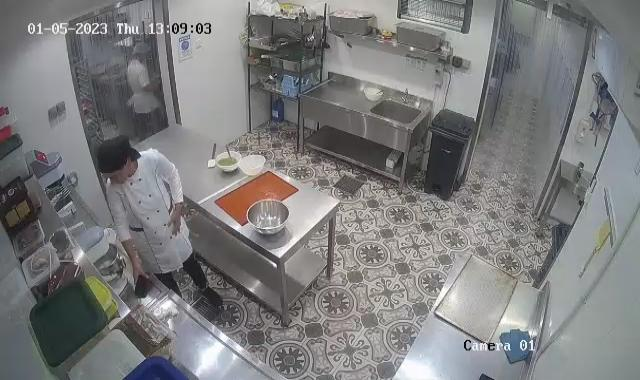hairnet: (134, 40, 152, 60)
no_hairnet: (94, 135, 136, 173)
